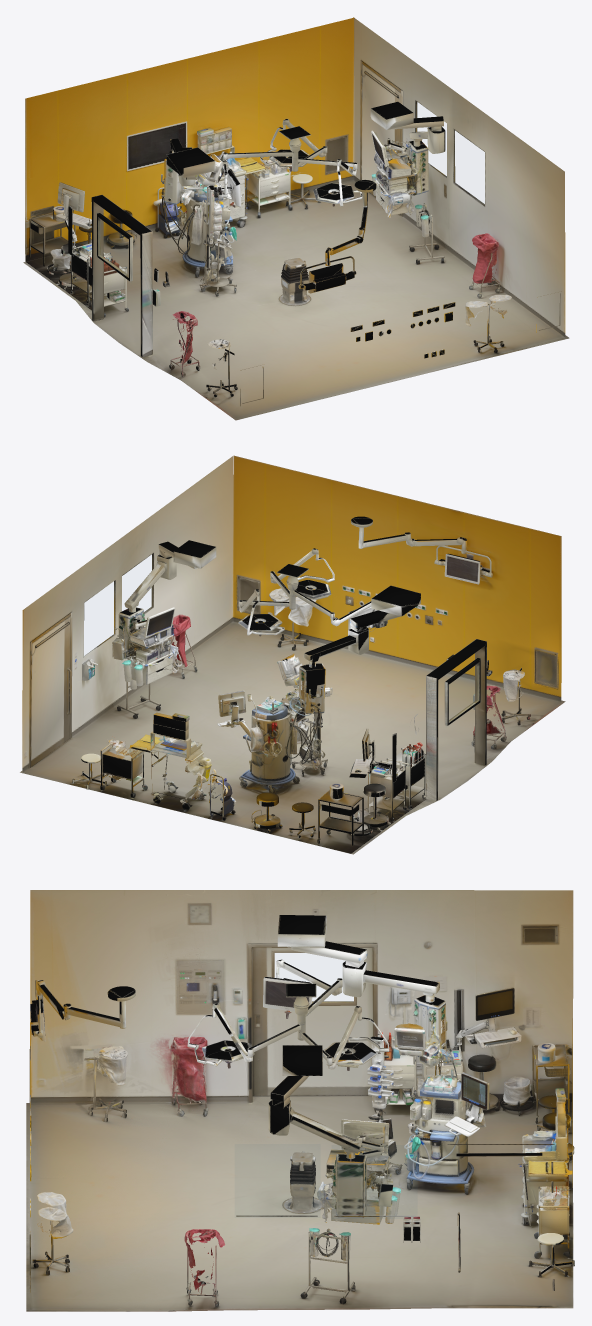
File: charite_university_hospital_-_operating_room.glb
3 views of the same model, one above another, from view 1: azimuth 30°, elevation 25°; view 2: azimuth 150°, elevation 25°; view 3: azimuth 270°, elevation 25° (orthographic). The views are drawn at different scales.
Parts seen in each view (by area): view 1: OP_Mitte; view 2: OP_Mitte; view 3: OP_Mitte.
Part boxes in pixels (left/top/right/bottom): OP_Mitte: left=23, top=17, right=569, bottom=420; OP_Mitte: left=20, top=455, right=565, bottom=854; OP_Mitte: left=26, top=890, right=574, bottom=1311.
Size of the model in its own units: 5.99 by 2.78 by 6.53.
Materials: 5 (4 with a texture image).
